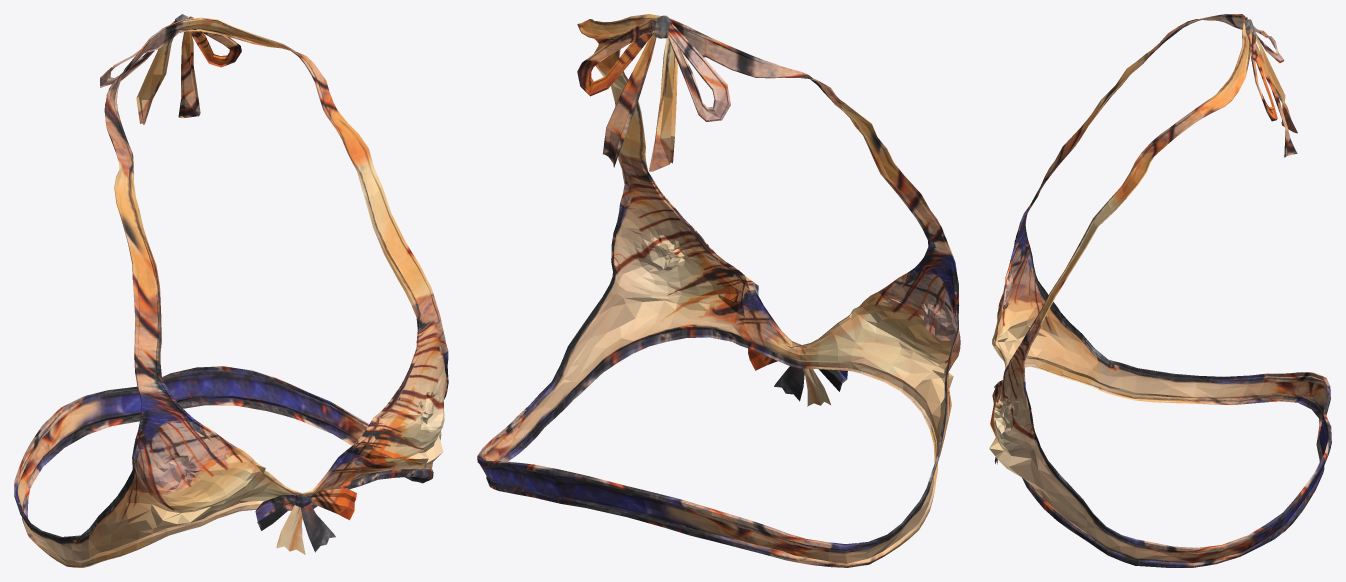
Rendered from mhw_punkduck_bikini02_bra.glb.
3 renders of one model, left to right at view 1: azimuth 30°, elevation 25°; view 2: azimuth 150°, elevation 25°; view 3: azimuth 270°, elevation 25°, orthographic. The views are drawn at different scales.
Visible parts, largest first — view 1: mhw_punkduck_bikini02_bra; view 2: mhw_punkduck_bikini02_bra; view 3: mhw_punkduck_bikini02_bra.
Boxes of the visible parts, x1=… form: mhw_punkduck_bikini02_bra: x1=14, y1=14, x2=448, y2=567; mhw_punkduck_bikini02_bra: x1=477, y1=14, x2=960, y2=567; mhw_punkduck_bikini02_bra: x1=989, y1=14, x2=1331, y2=567.
Size of the model in its own units: 0.3027 by 0.3772 by 0.2511.
Materials: 1 (1 with a texture image).
